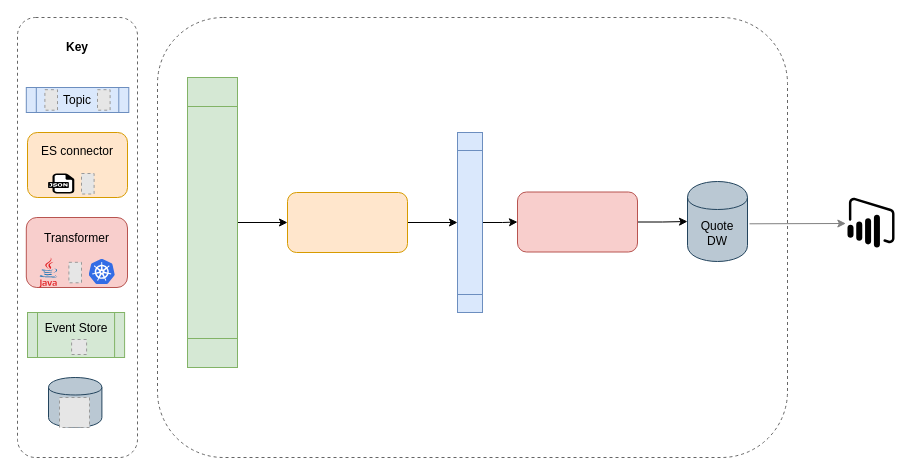
This 920x475 diagram has some shape labels left out. Grey dashed boxes stand in for pictures. The centre of each missing label's shape, as x and y in pixels:
"Analytics BI Dashboard" belongs at pixel 870 222.
"quote_event_stream connector" belongs at pixel 347 222.
"quote_event_stream transformer" belongs at pixel 577 221.
